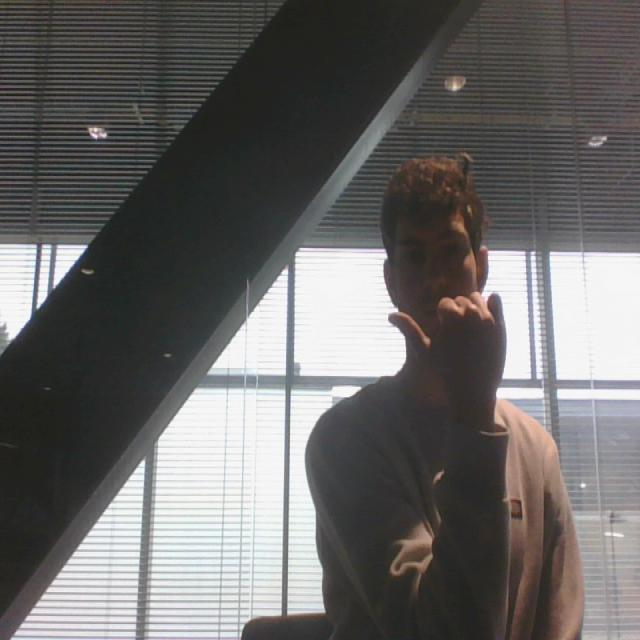left: (378, 290, 520, 402)
